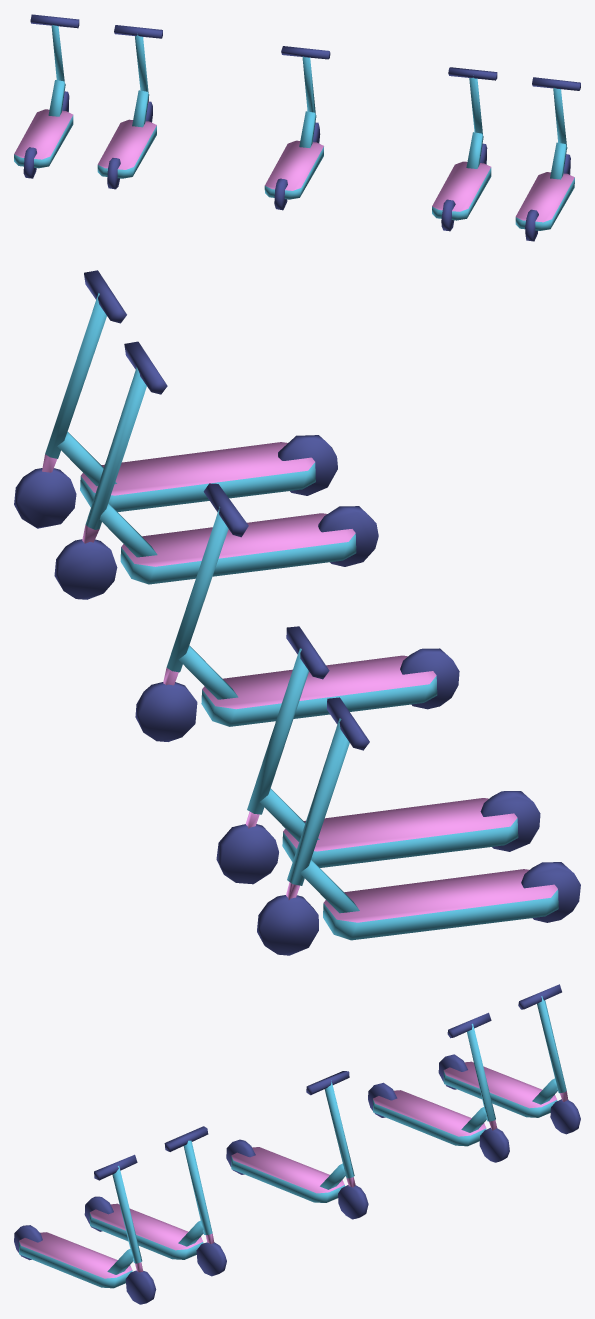
Rendered from 067_Loop.glb.
3 views of the same model, one above another, from view 1: azimuth 30°, elevation 25°; view 2: azimuth 150°, elevation 25°; view 3: azimuth 270°, elevation 25° (orthographic). The views are drawn at different scales.
Visible parts, largest first — view 1: 立方体064_2, 立方体064, 立方体064_3, 立方体064_1; view 2: 立方体064_2, 立方体064_3, 立方体064, 立方体064_1; view 3: 立方体064_2, 立方体064_3, 立方体064, 立方体064_1.
Part boxes in pixels (x1,y1,x2,y2): 立方体064_2: (14, 91, 574, 222); 立方体064: (14, 80, 574, 230); 立方体064_3: (23, 14, 580, 241); 立方体064_1: (51, 25, 567, 148); 立方体064_2: (42, 442, 557, 922); 立方体064_3: (14, 270, 580, 955); 立方体064: (57, 431, 558, 940); 立方体064_1: (45, 293, 349, 885); 立方体064_2: (19, 1061, 568, 1278); 立方体064_3: (14, 984, 580, 1304); 立方体064: (19, 1071, 557, 1288); 立方体064_1: (112, 996, 566, 1263).
Bounding box in the file's own units: 5.11 × 1.37 × 5.39.
